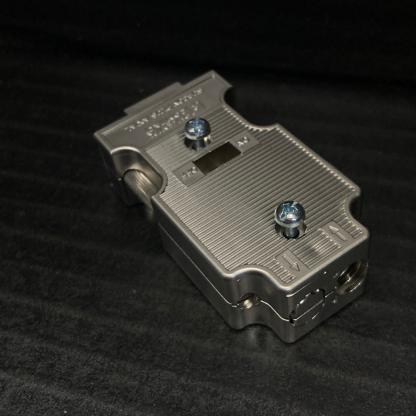SP0000010: (71, 42, 398, 355)
